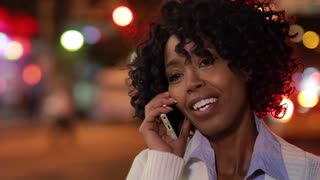phone: (140, 92, 190, 139)
talk: (137, 47, 251, 154)
